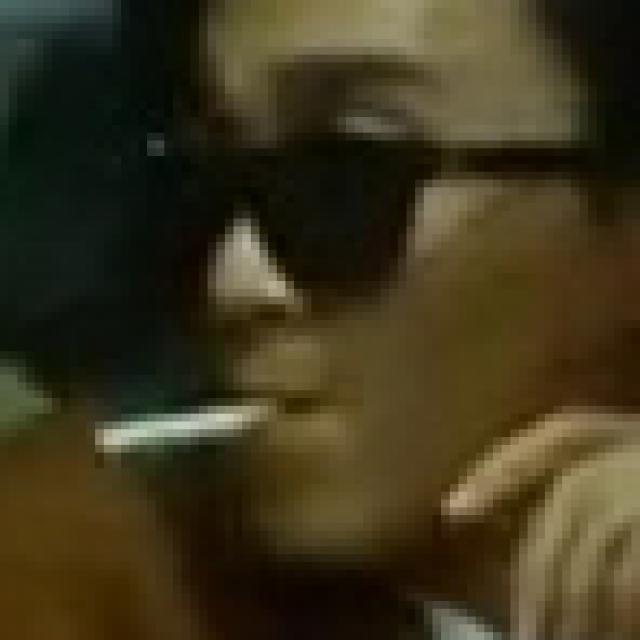smoking: (98, 392, 277, 466)
